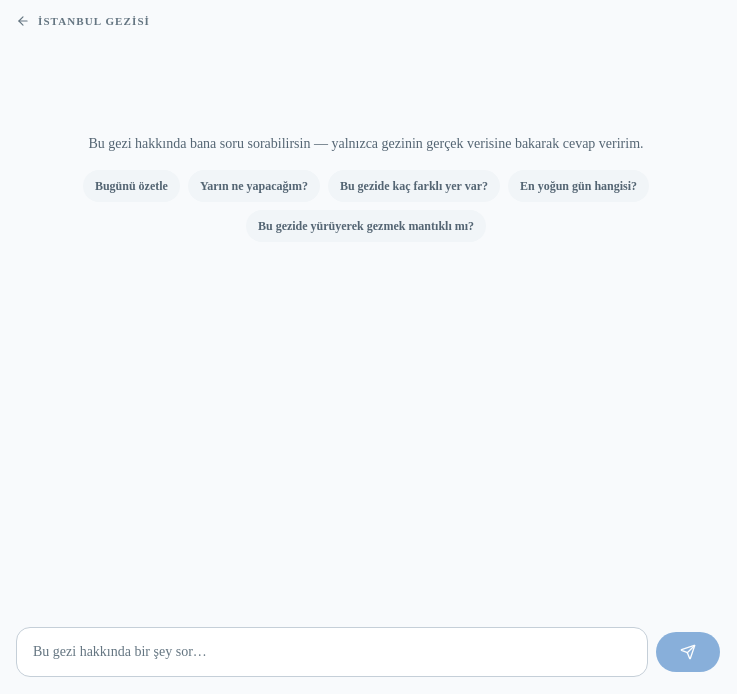
Test: TripAssistantPage › shows an error and offers retry when the request fails, without losing the input
In the field named "Asistana mesaj yaz": (332, 652) [16, 627, 648, 677], type "soru"
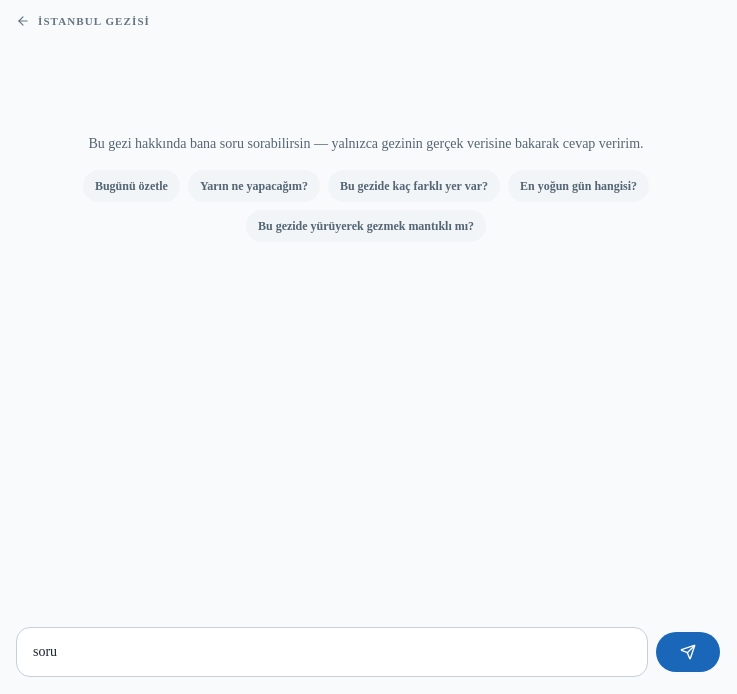
Click the button named "Gönder": (688, 652) [656, 632, 720, 672]
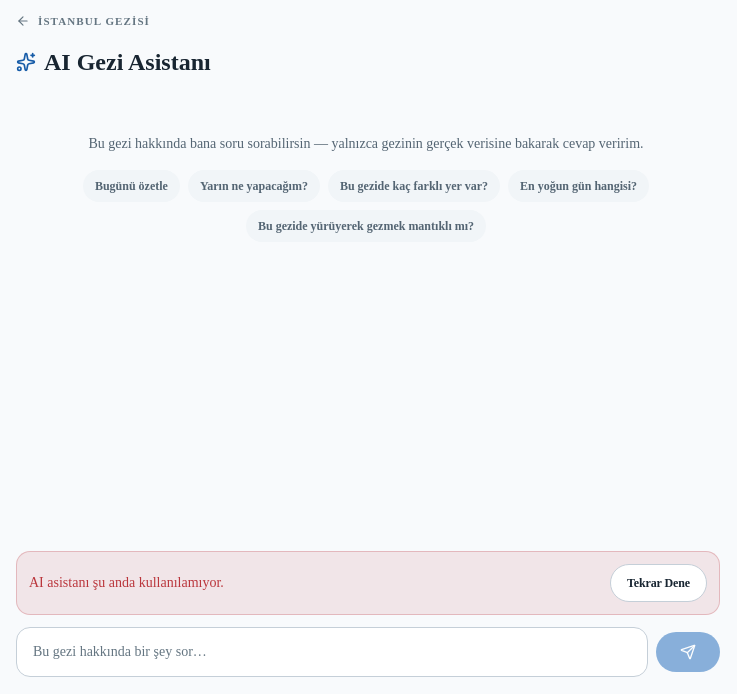
Result: the text "AI asistanı şu anda kullanılamıyor." is shown at [29, 573, 224, 593]
Result: the button "Tekrar Dene" is shown
Click the button "Tekrar Dene": (658, 583) [610, 564, 707, 602]
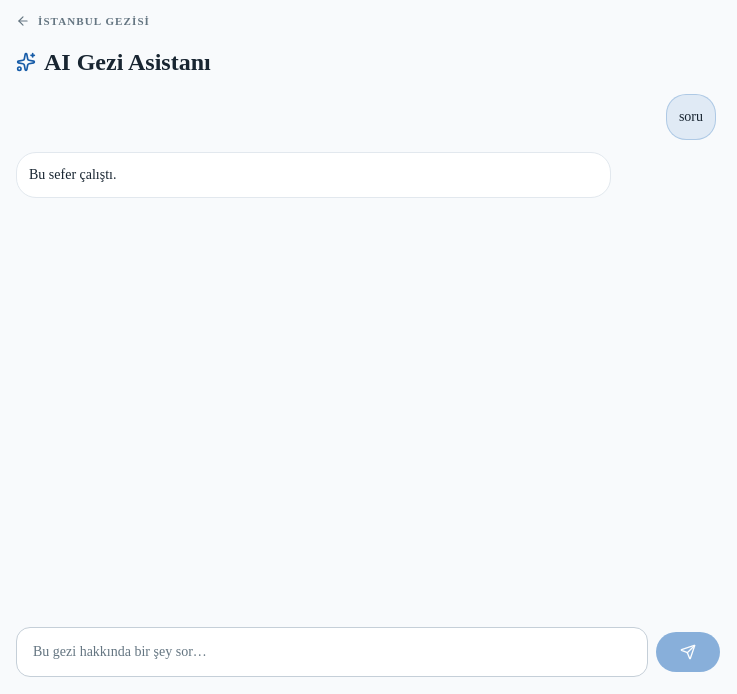
Result: the text "Bu sefer çalıştı." is shown at [16, 152, 611, 198]
